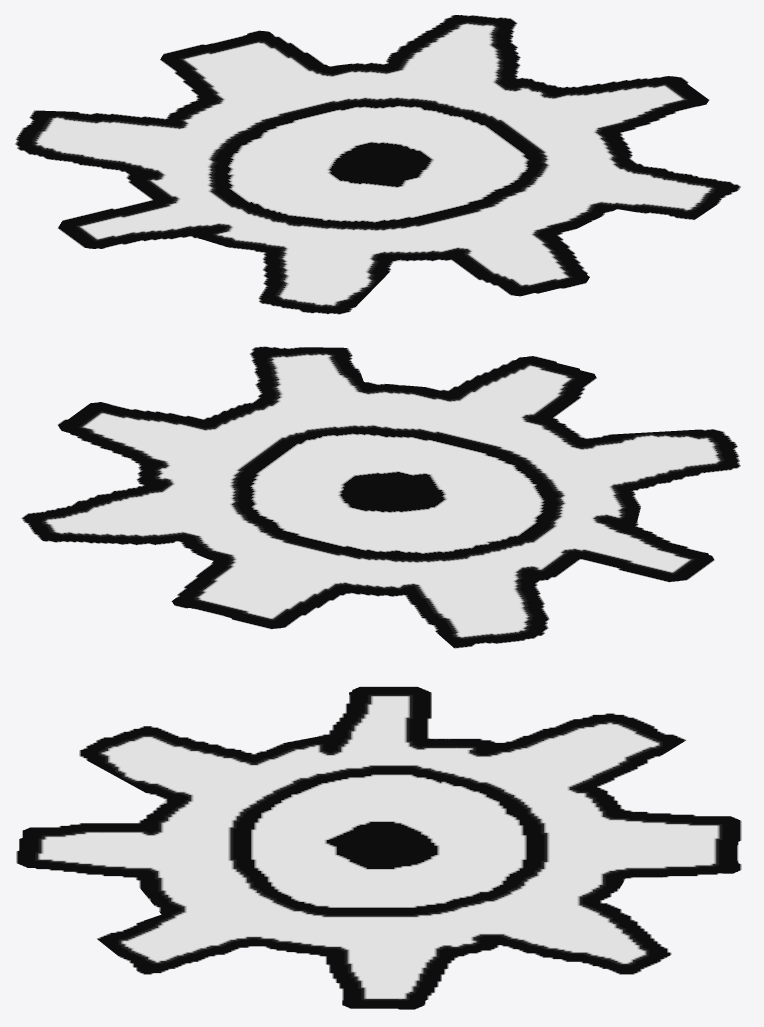
Rendered from haguguruma.FBX.
3 views of the same model, one above another, from view 1: azimuth 30°, elevation 25°; view 2: azimuth 150°, elevation 25°; view 3: azimuth 270°, elevation 25° (orthographic). The views are drawn at different scales.
Parts seen in each view (by area): view 1: Plane001; view 2: Plane001; view 3: Plane001.
Part boxes in pixels (<box>): Plane001: <box>15,15,740,314</box>; Plane001: <box>21,346,740,648</box>; Plane001: <box>16,686,741,1009</box>.
Bounding box in the file's own units: 91.66 × 5.29e-15 × 86.4.
